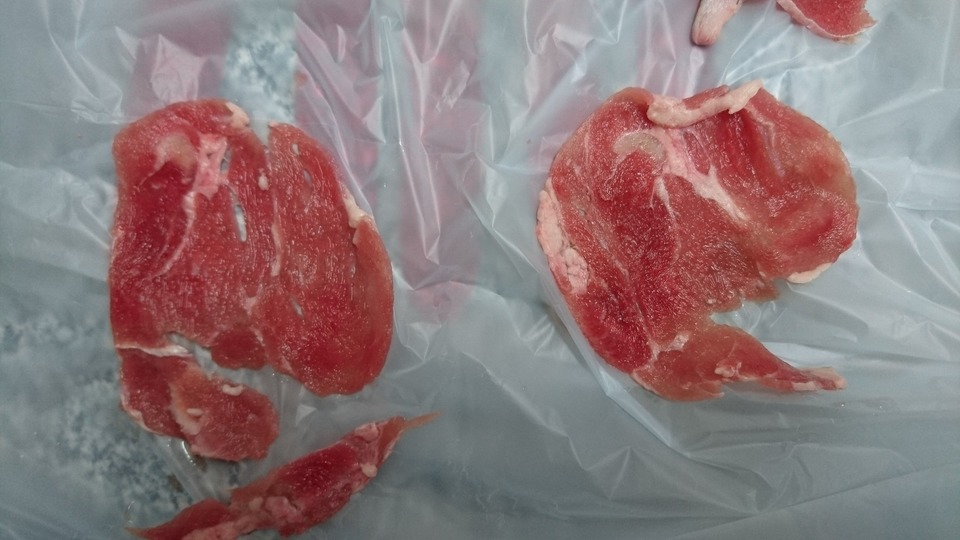restructured meat: (520, 57, 854, 398), (102, 96, 371, 463)
